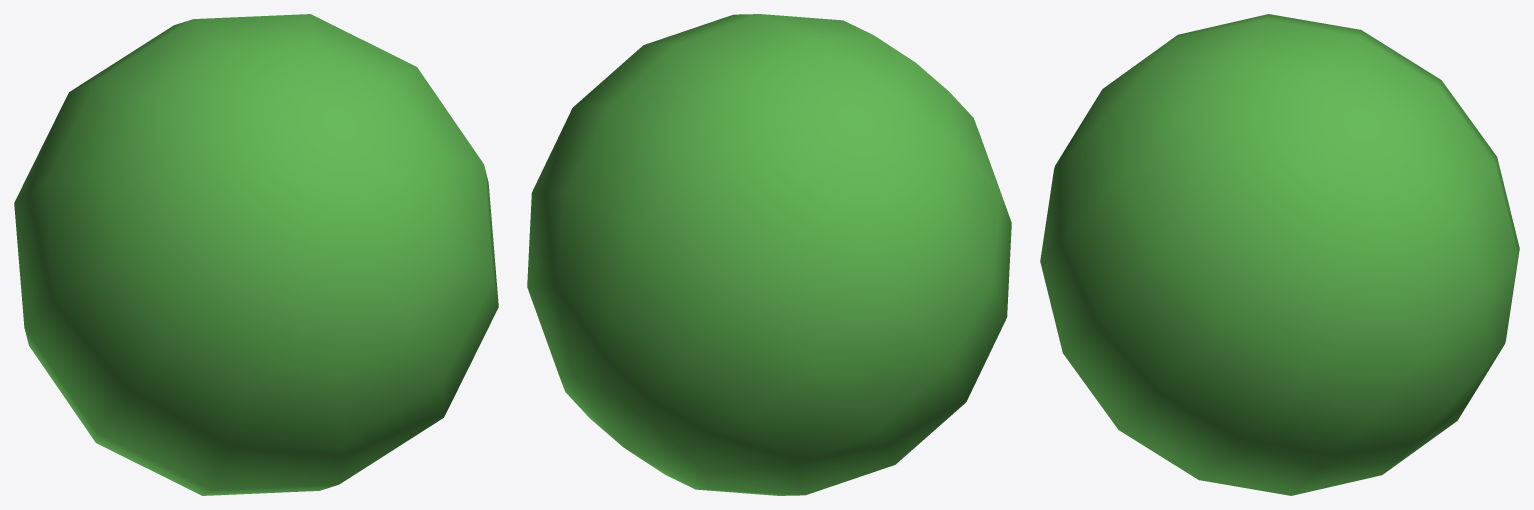
Rendered from linfatico-jugulodigastric-node-r.glb.
3 views of the same model, side by side, from view 1: azimuth 30°, elevation 25°; view 2: azimuth 150°, elevation 25°; view 3: azimuth 270°, elevation 25° (orthographic). The views are drawn at different scales.
Parts seen in each view (by area): view 1: Jugulodigastric node.r; view 2: Jugulodigastric node.r; view 3: Jugulodigastric node.r.
Part boxes in pixels (bbox=[...]): Jugulodigastric node.r: bbox=[14, 14, 498, 495]; Jugulodigastric node.r: bbox=[527, 14, 1011, 495]; Jugulodigastric node.r: bbox=[1040, 14, 1519, 495].
Size of the model in its own units: 0.00258 by 0.00255 by 0.00256.
